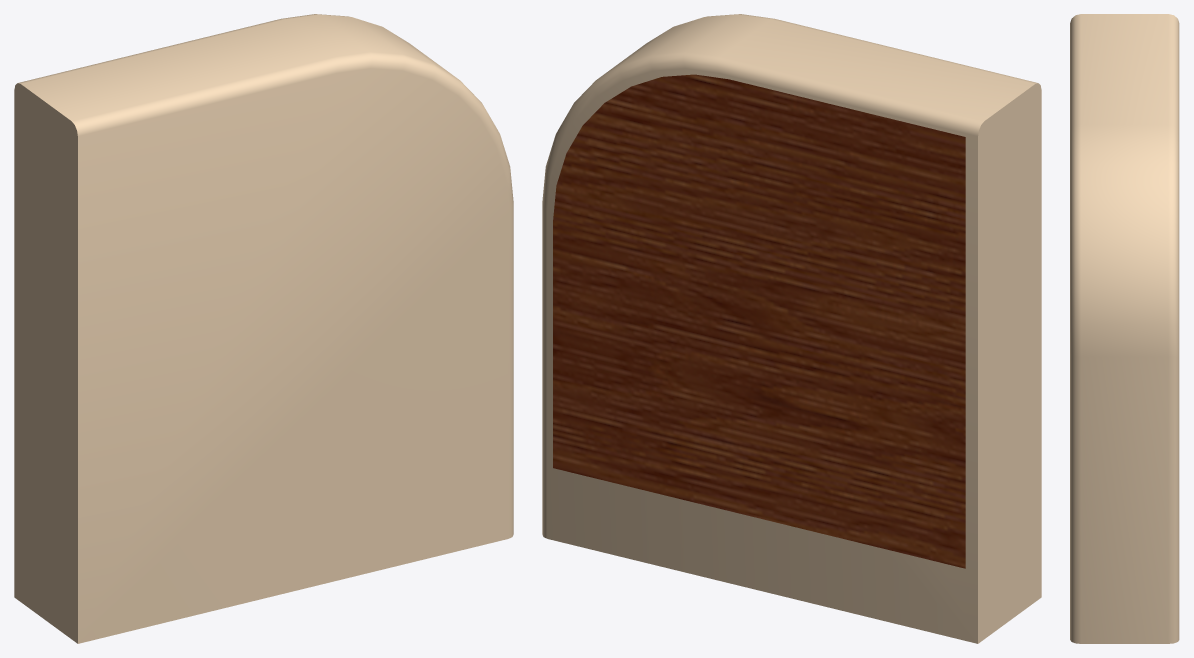
The model's file is Wall_Straight_LC.glb.
The picture shows the model from 3 angles, left to right: view 1: azimuth 30°, elevation 25°; view 2: azimuth 150°, elevation 25°; view 3: azimuth 270°, elevation 25°; orthographic projection. The views are drawn at different scales.
Parts seen in each view (by area): view 1: Cube.002; view 2: Plane.001, Cube.002; view 3: Cube.002.
Part boxes in pixels (bbox=[...]): Cube.002: bbox=[14, 14, 513, 643]; Plane.001: bbox=[553, 74, 965, 568]; Cube.002: bbox=[542, 14, 1041, 643]; Cube.002: bbox=[1070, 14, 1179, 643].
Bounding box in the file's own units: 2 × 2.25 × 0.5022.
Materials: 2 (2 with a texture image).
